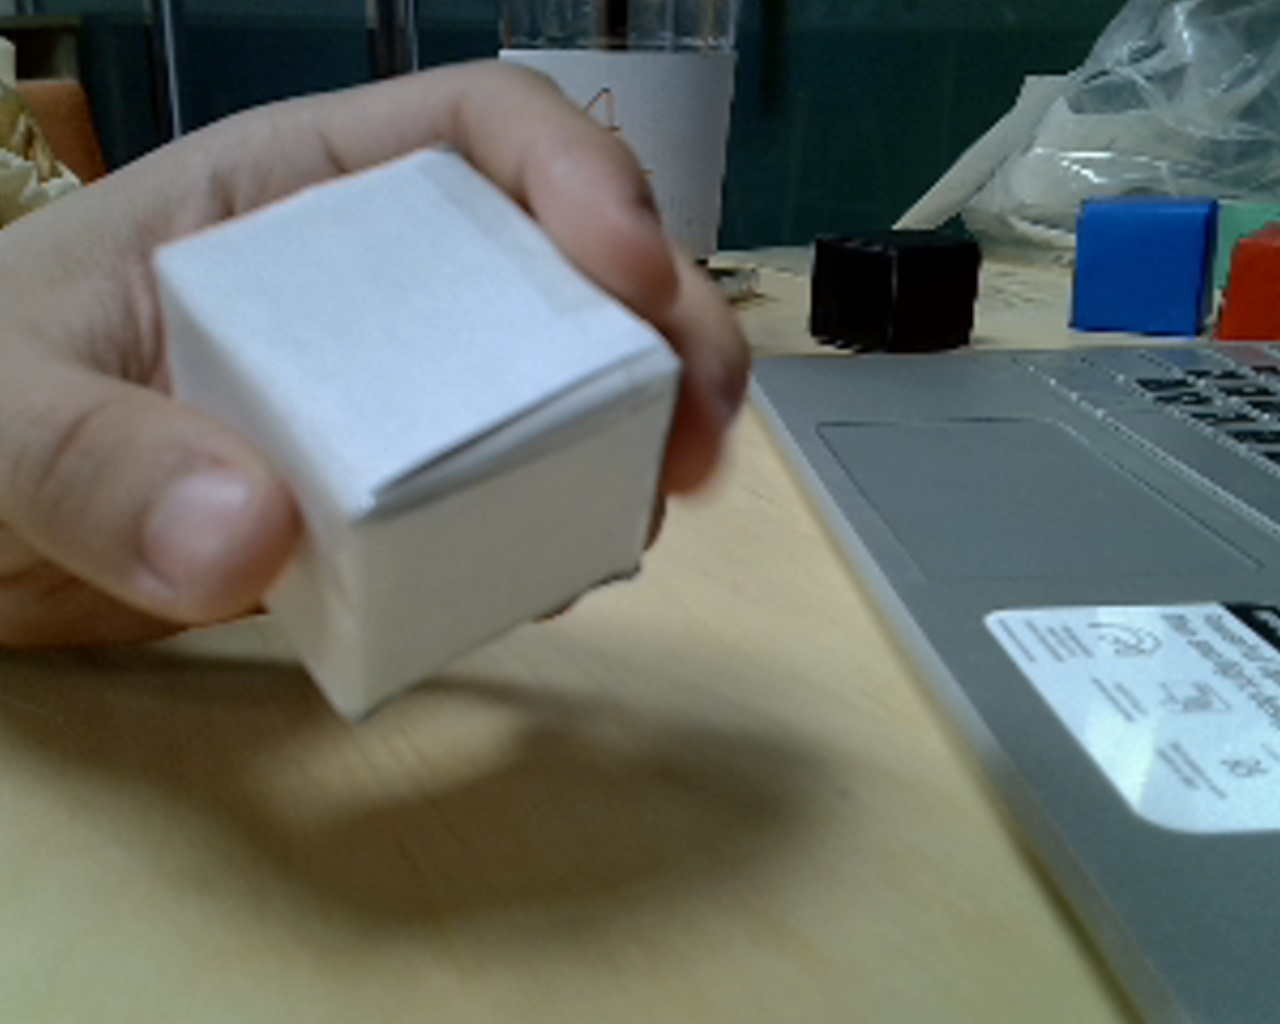whitebox: (126, 118, 686, 743)
